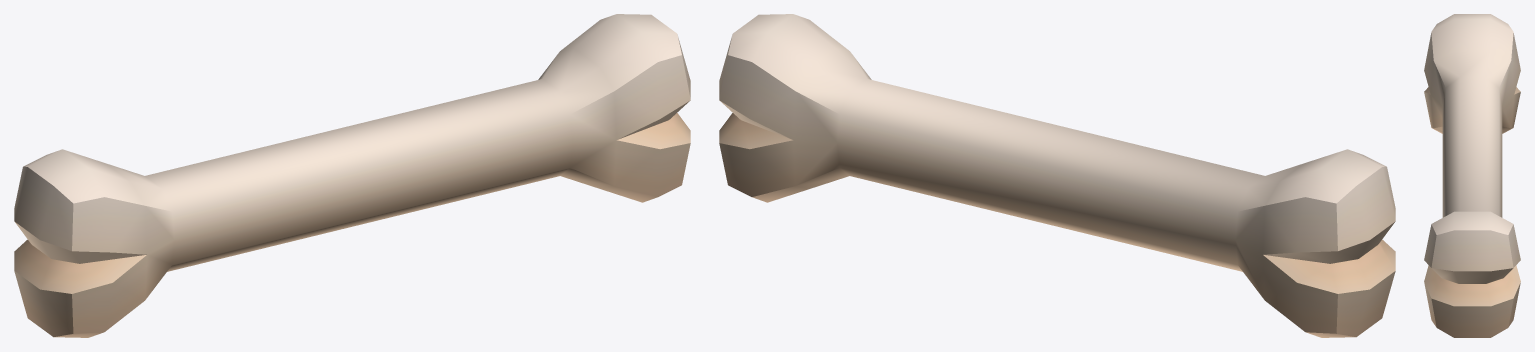
File: bone_c.glb
The picture shows the model from 3 angles, left to right: view 1: azimuth 30°, elevation 25°; view 2: azimuth 150°, elevation 25°; view 3: azimuth 270°, elevation 25°; orthographic projection. The views are drawn at different scales.
Parts seen in each view (by area): view 1: bone_C; view 2: bone_C; view 3: bone_C.
Part boxes in pixels (bbox=[...]): bone_C: bbox=[14, 14, 690, 337]; bone_C: bbox=[719, 14, 1395, 337]; bone_C: bbox=[1424, 14, 1520, 337].
Size of the model in its own units: 1.11 by 0.2761 by 0.2007.
Materials: 1 (1 with a texture image).
